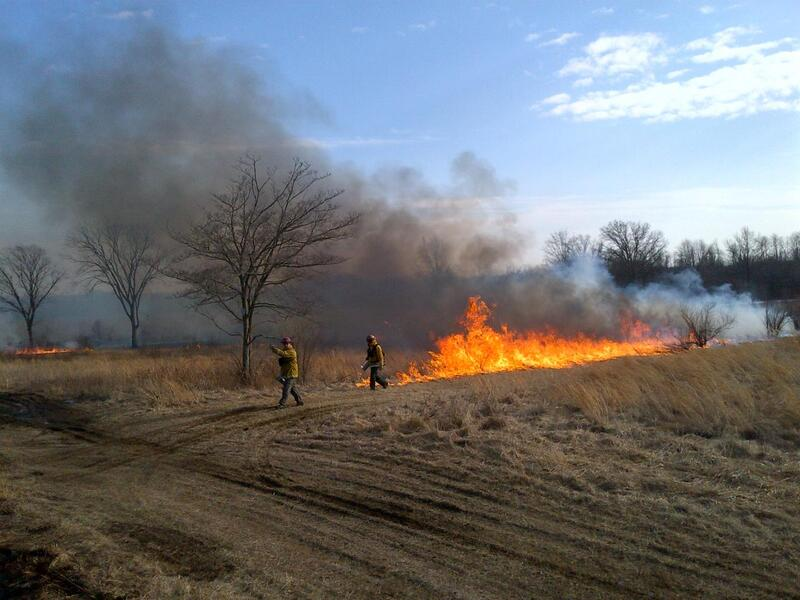fire: (421, 324, 661, 375)
